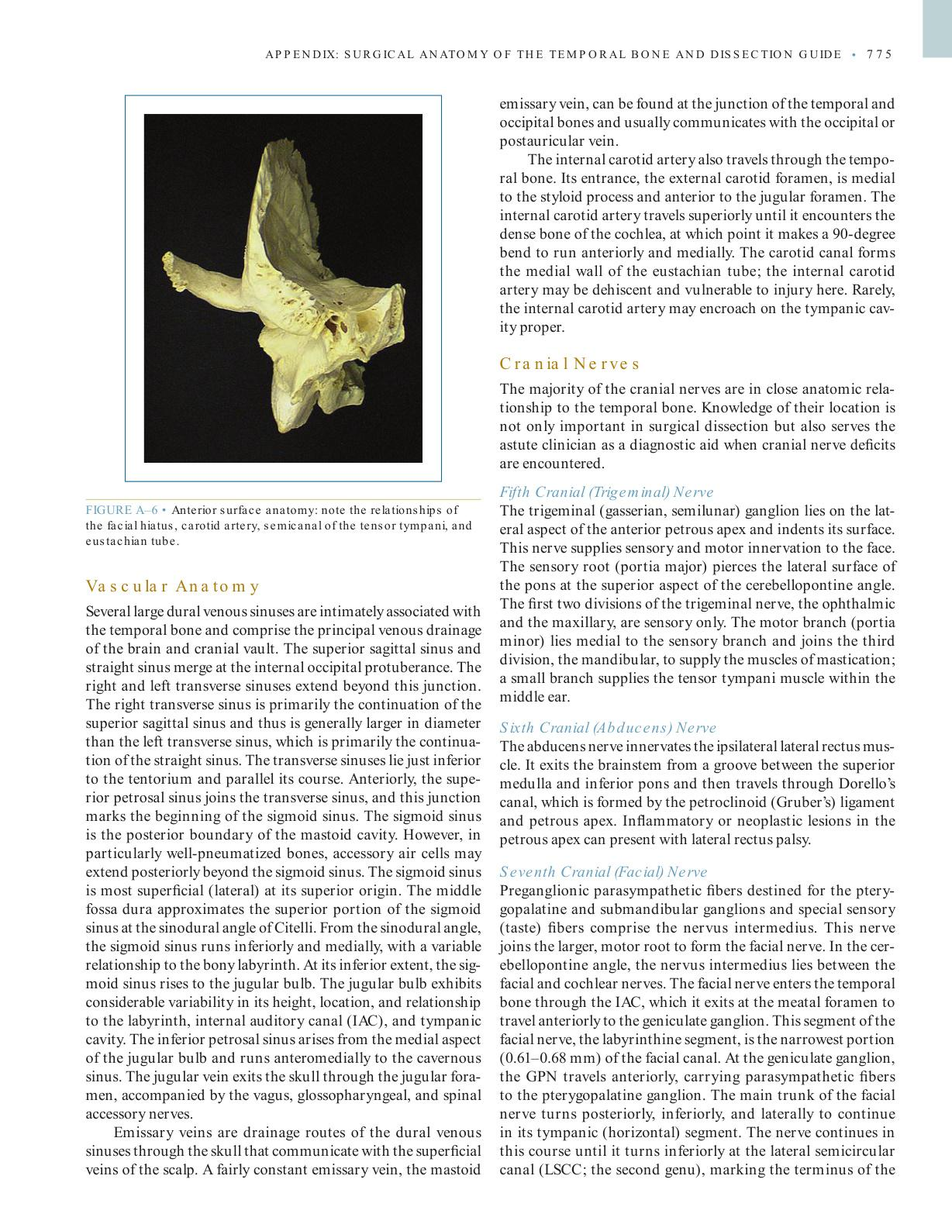caption: (84, 503, 472, 549)
header: (264, 48, 843, 59)
image: (143, 113, 424, 463)
section-heading: (83, 576, 260, 597), (499, 355, 639, 372)
sub-section-heading: (498, 484, 714, 501), (498, 720, 718, 736), (498, 865, 709, 881)
text: (84, 602, 481, 1180), (498, 883, 897, 1179), (496, 96, 898, 339), (497, 504, 899, 704), (498, 739, 898, 850), (498, 379, 897, 471)
